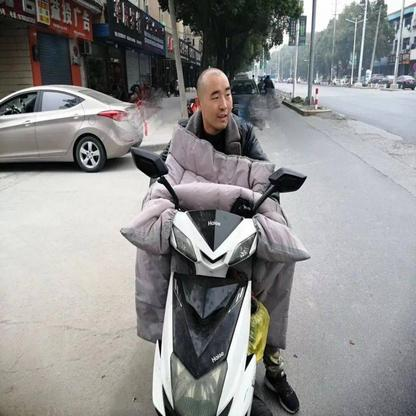target: (114, 66, 310, 410)
